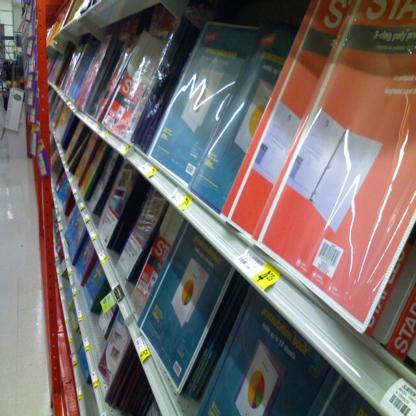book: (43, 0, 416, 365), (47, 89, 376, 415), (47, 141, 159, 415)
